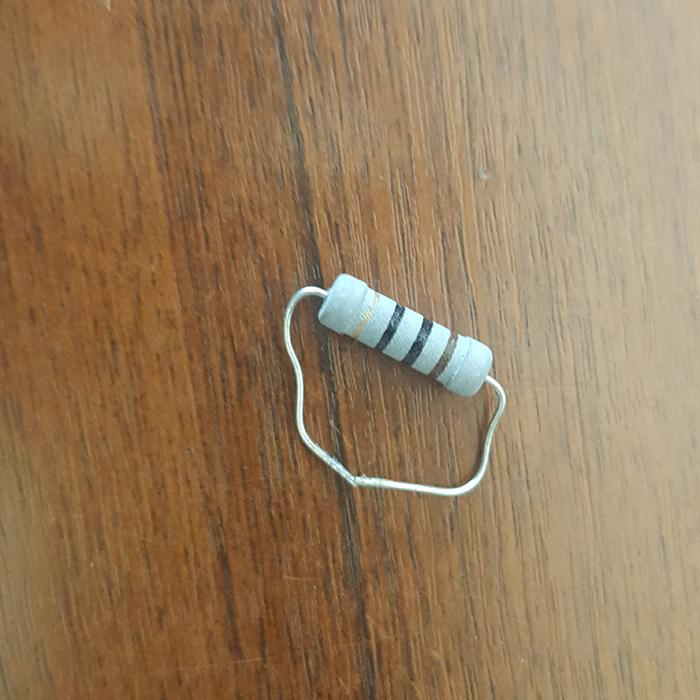resistor: (313, 271, 493, 396)
